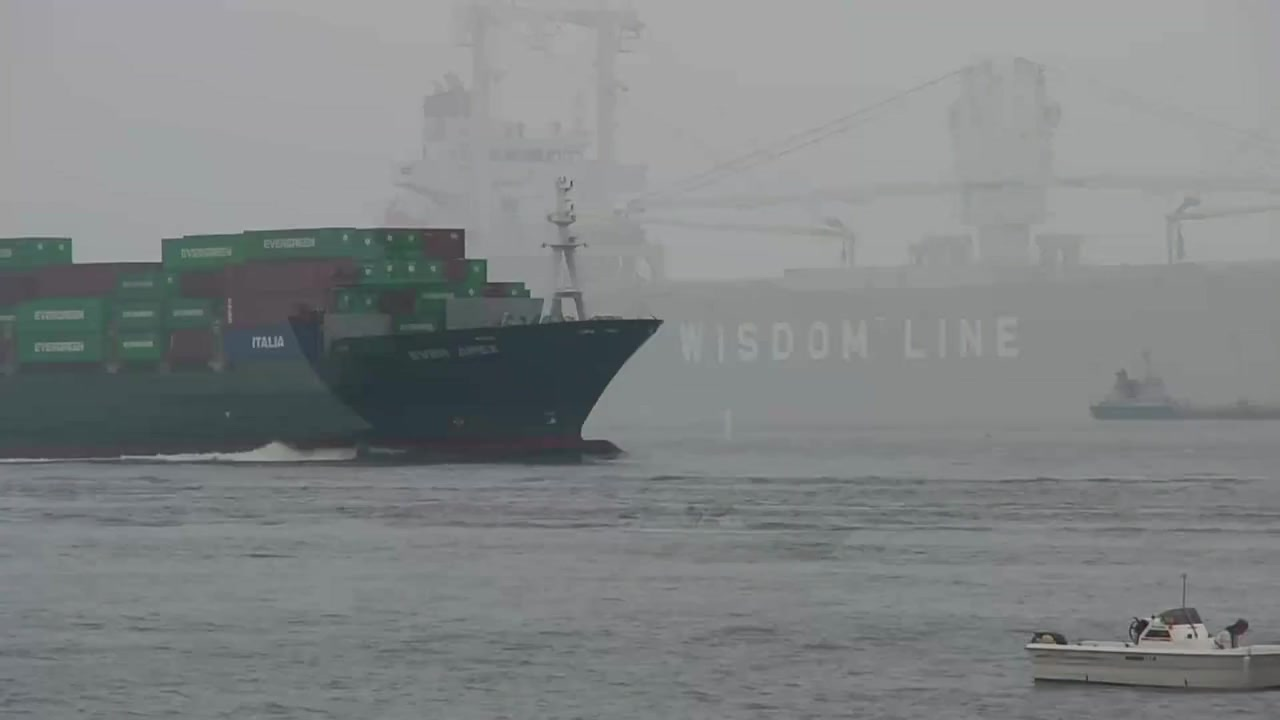boat: (1, 212, 667, 466)
